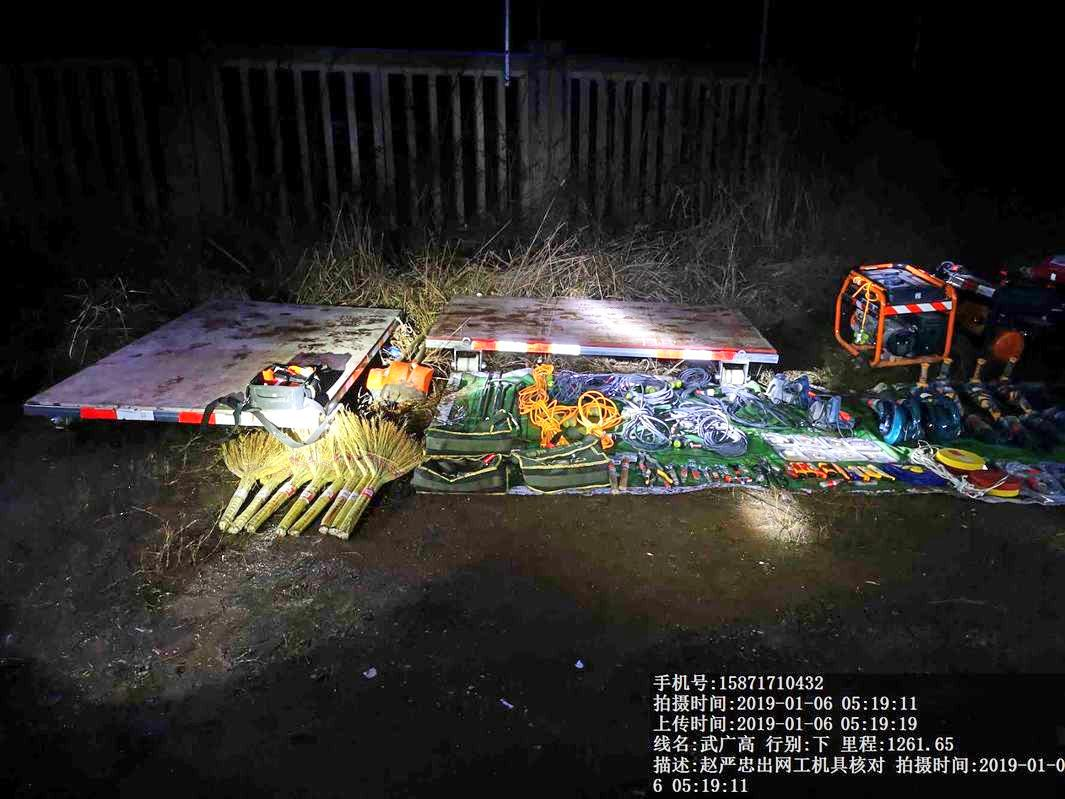DJ: (826, 249, 962, 373), (947, 248, 1065, 340)
DX: (679, 400, 747, 454), (569, 389, 625, 452), (527, 400, 576, 452)
DZ: (965, 360, 1008, 424), (929, 357, 965, 418)
GFJ: (825, 376, 910, 443)
GJB: (512, 444, 612, 499), (242, 351, 325, 413), (424, 405, 523, 453), (413, 453, 511, 501)
JC: (974, 465, 1034, 500), (935, 442, 993, 474)
SB: (334, 410, 415, 540), (206, 430, 294, 524)
TQ: (383, 338, 447, 402)
